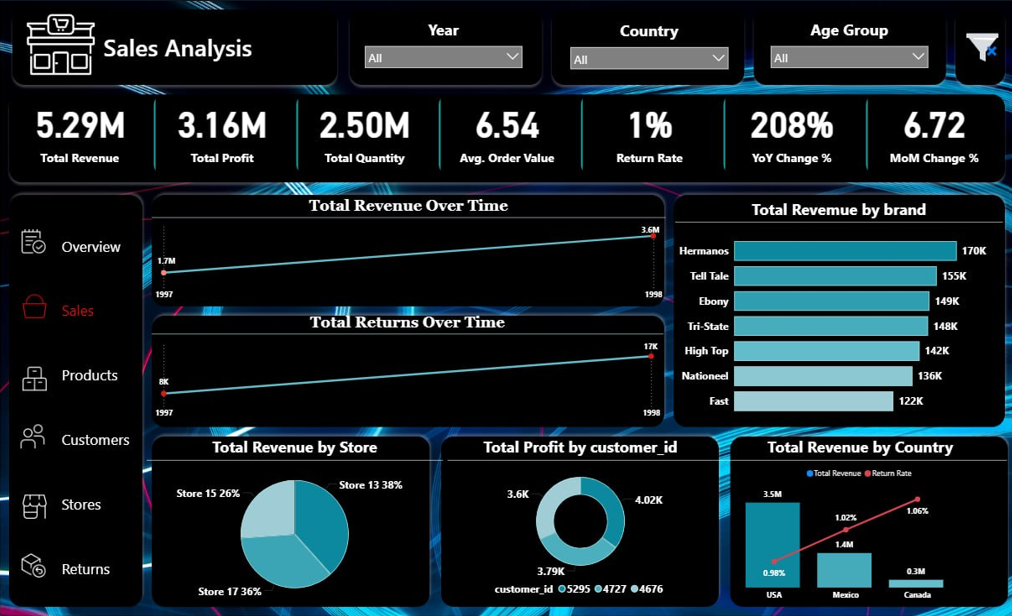

The page's visual inventory and layout, read from the dashboard file:
{"tool":"powerbi","page":{"name":"Sales","canvas":[1600,980],"ordinal":1},"visuals":[{"type":"slicer","title":"Year","fields":{"Values":["vw_CleanCalendar.year"]},"box":[566.5,29.6,267,88],"z":0,"group":"g8"},{"type":"slicer","title":"Age Group","fields":{"Values":["vw_CleanCustomers.age_group"]},"box":[1202,29.6,267,88],"z":0,"group":"g9"},{"type":"slicer","title":"Country","fields":{"Values":["vw_CleanStores.store_country"]},"box":[888.4,31.2,267.7,88.7],"z":0,"group":"g10"},{"type":"group","id":"g1","title":"Group 2","box":[18.1,139.6,1563.3,142.9],"z":0},{"type":"cardVisual","fields":{"Data":["_Measures.Total Revenue","_Measures.Total Profit","_Measures.Total Quantity","_Measures.Average Order Value","_Measures.Return Rate","_Measures.YoY Revenue Change","_Measures.MoM Change %"]},"box":[18.1,139.6,1563.3,142.9],"z":0,"group":"g1"},{"type":"lineChart","title":"Total Revenue Over Time","fields":{"Y":["_Measures.Total Revenue"],"Category":["vw_CleanCalendar.date_key.Variation.Date Hierarchy.Year","vw_CleanCalendar.date_key.Variation.Date Hierarchy.Quarter","vw_CleanCalendar.date_key.Variation.Date Hierarchy.Month","vw_CleanCalendar.date_key.Variation.Date Hierarchy.Day"]},"box":[243,307.8,804.6,170.8],"z":0,"group":"g2"},{"type":"clusteredBarChart","title":"Total Revemue by brand","fields":{"Category":["vw_CleanProducts.product_brand"],"Y":["_Measures.Total Revenue"]},"box":[1062.4,310.4,514,353.1],"z":0,"group":"g7"},{"type":"lineChart","title":"Total Returns Over Time","fields":{"Y":["_Measures.Total Return"],"Category":["vw_CleanReturns.return_date.Variation.Date Hierarchy.Year","vw_CleanReturns.return_date.Variation.Date Hierarchy.Quarter","vw_CleanReturns.return_date.Variation.Date Hierarchy.Month"]},"box":[243,489.3,801.3,174.1],"z":0,"group":"g6"},{"type":"pieChart","title":"Total Revenue by Store","fields":{"Y":["_Measures.Total Revenue"],"Category":["vw_CleanStores.store_name"]},"box":[234.8,683.1,464.7,266],"z":0,"group":"g3"},{"type":"donutChart","fields":{"Y":["_Measures.Total Profit"],"Category":["vw_CleanCustomers.customer_id"]},"box":[706.1,683.1,417.1,257.8],"z":0,"group":"g5"},{"type":"lineClusteredColumnComboChart","title":"Total Revenue by Country","fields":{"Category":["vw_CleanStores.store_country"],"Y":["_Measures.Total Revenue"],"Y2":["_Measures.Return Rate"]},"box":[1122.7,683.3,459.1,265.2],"z":0,"group":"g4"},{"type":"textbox","box":[163.3,41.9,367.8,78.8],"z":1000,"group":"g11"},{"type":"group","id":"g2","title":"Group 3","box":[243,307.8,804.6,170.8],"z":1000},{"type":"group","id":"g3","title":"Group 4","box":[234.8,683.1,464.7,266],"z":2000},{"type":"group","id":"g4","title":"Group 5","box":[1122.7,683.3,459.1,265.2],"z":3000},{"type":"group","id":"g5","title":"Group 6","box":[706.1,683.1,417.1,257.8],"z":4000},{"type":"group","id":"g6","title":"Group 3","box":[243,489.3,801.3,174.1],"z":5000},{"type":"group","id":"g7","title":"Group 1","box":[1062.4,310.4,514,353.1],"z":6000},{"type":"group","id":"g8","title":"Group 7","box":[566.5,29.6,267.7,88.7],"z":7000},{"type":"group","id":"g9","title":"Group 8","box":[1202,29.6,267.7,88.7],"z":8000},{"type":"group","id":"g10","title":"Group 9","box":[888.4,31.2,267.7,88.7],"z":9000},{"type":"pageNavigator","box":[88.7,338.3,146.1,601],"z":10000},{"type":"group","id":"g11","title":"Group 11","box":[163.3,41.9,367.8,78.8],"z":11000},{"type":"image","box":[42.7,11.5,116.6,128.1],"z":12000},{"type":"image","box":[1487.7,34.5,111.7,77.2],"z":13000},{"type":"group","id":"g12","title":"Group 1","box":[32.8,353.5,51.7,556.7],"z":14000},{"type":"image","box":[36.9,455,47.6,49.3],"z":19000,"group":"g12"},{"type":"image","box":[35.2,353.5,47.6,49.3],"z":22000,"group":"g12"},{"type":"image","box":[32.8,658.5,47.6,49.3],"z":23000,"group":"g12"},{"type":"image","box":[36.1,768.5,47.6,49.3],"z":24000,"group":"g12"},{"type":"image","box":[36.1,568.1,47.6,49.3],"z":25000,"group":"g12"},{"type":"image","box":[35.2,860.9,47.6,49.3],"z":26000,"group":"g12"}]}

Visuals, with their boxes in screenshot pixels (x1, y1, x2, y2), scaled from the page's 1600x980 canvas onto the 1012x616 screenshot:
"Year" slicer: box(358, 19, 527, 74)
"Age Group" slicer: box(760, 19, 929, 74)
"Country" slicer: box(562, 20, 731, 75)
"Group 2" group: box(11, 88, 1000, 178)
cardVisual - _Measures.Total Revenue x _Measures.Total Profit: box(11, 88, 1000, 178)
"Total Revenue Over Time" lineChart: box(154, 193, 663, 301)
"Total Revemue by brand" clusteredBarChart: box(672, 195, 997, 417)
"Total Returns Over Time" lineChart: box(154, 308, 661, 417)
"Total Revenue by Store" pieChart: box(149, 429, 442, 597)
donutChart - _Measures.Total Profit x vw_CleanCustomers.customer_id: box(447, 429, 710, 591)
"Total Revenue by Country" lineClusteredColumnComboChart: box(710, 430, 1000, 596)
textbox: box(103, 26, 336, 76)
"Group 3" group: box(154, 193, 663, 301)
"Group 4" group: box(149, 429, 442, 597)
"Group 5" group: box(710, 430, 1000, 596)
"Group 6" group: box(447, 429, 710, 591)
"Group 3" group: box(154, 308, 661, 417)
"Group 1" group: box(672, 195, 997, 417)
"Group 7" group: box(358, 19, 528, 74)
"Group 8" group: box(760, 19, 930, 74)
"Group 9" group: box(562, 20, 731, 75)
pageNavigator: box(56, 213, 149, 590)
"Group 11" group: box(103, 26, 336, 76)
image: box(27, 7, 101, 88)
image: box(941, 22, 1011, 70)
"Group 1" group: box(21, 222, 53, 572)
image: box(23, 286, 53, 317)
image: box(22, 222, 52, 253)
image: box(21, 414, 51, 445)
image: box(23, 483, 53, 514)
image: box(23, 357, 53, 388)
image: box(22, 541, 52, 572)
